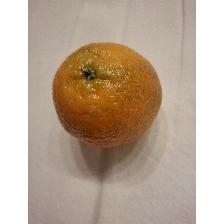Mandarine: (52, 40, 164, 150)
